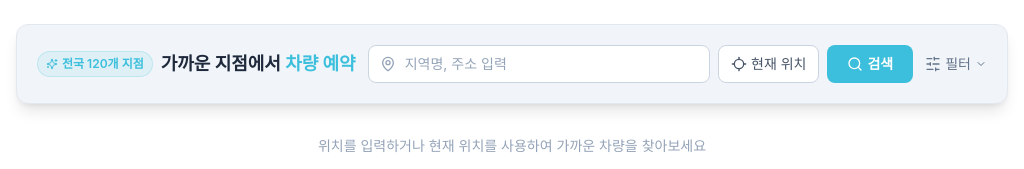
Test case: ReservationSection Component › Current location feature › should show toast when geolocation is not supported
The image size is (1024, 169).
Click the button "현재 위치" at [769, 64], box [718, 45, 820, 83]
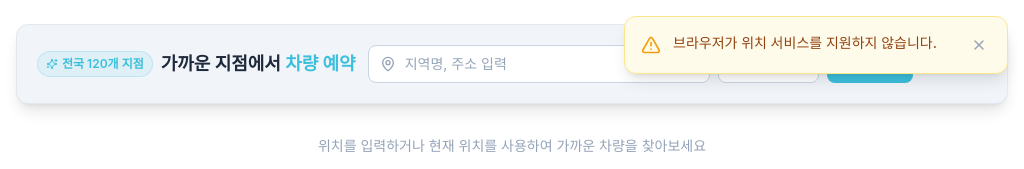
Now the text "브라우저가 위치 서비스를 지원하지 않습니다." is shown, box [673, 33, 955, 53]
